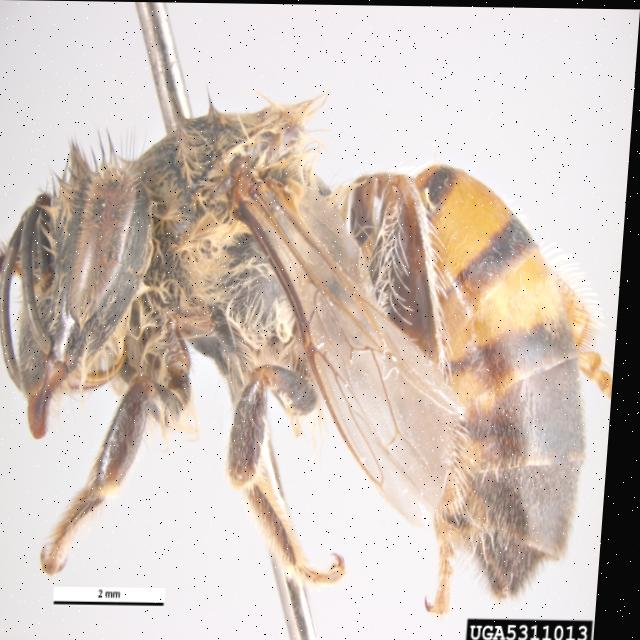Apis-mellifera-scutellata: (2, 76, 636, 617)
